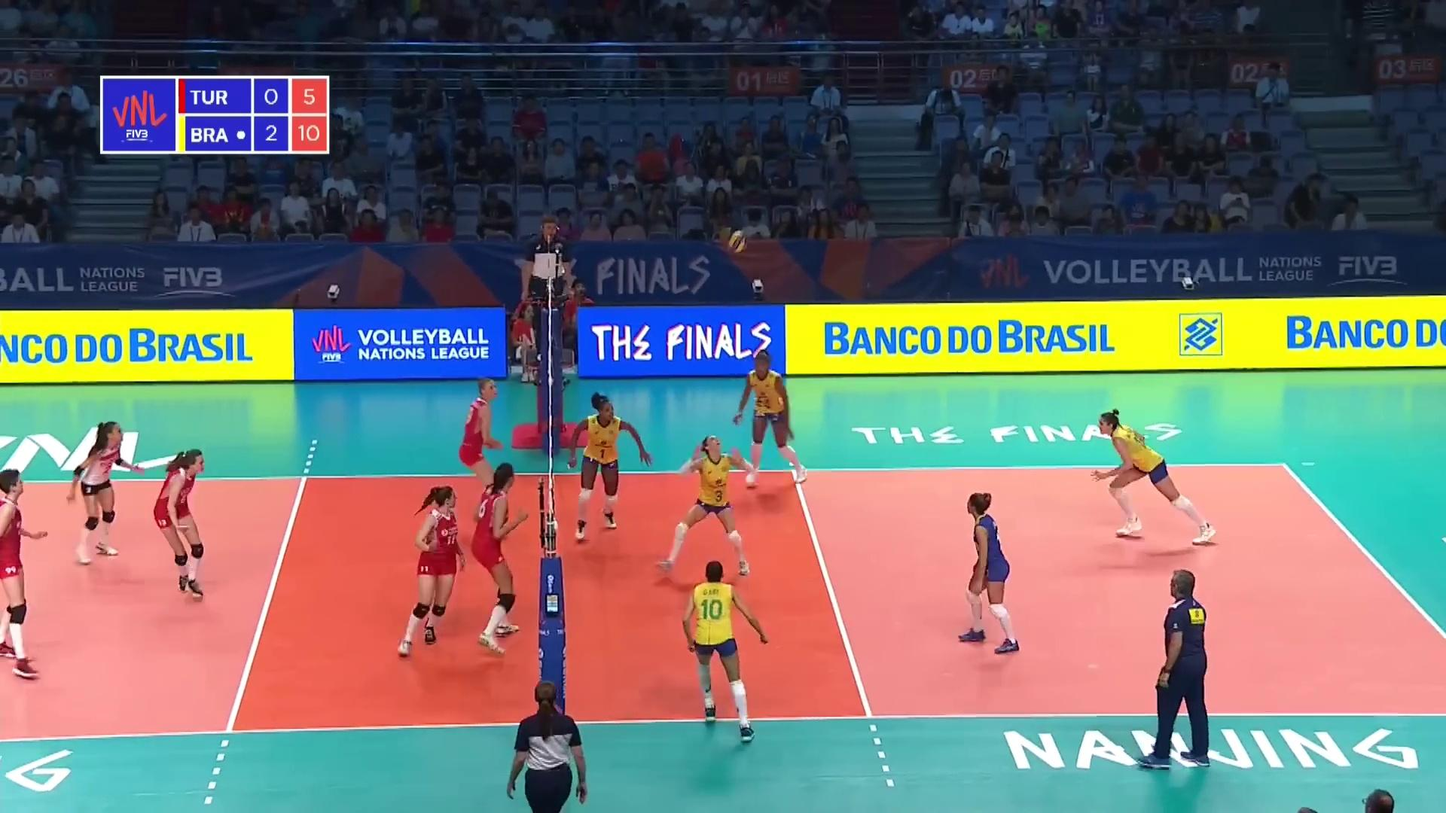player: (1088, 412, 1219, 546), (680, 563, 766, 739), (661, 434, 765, 573), (571, 396, 649, 541), (469, 459, 524, 654), (404, 485, 467, 655), (64, 420, 137, 565), (958, 495, 1021, 651), (0, 471, 45, 681), (154, 447, 214, 602), (735, 352, 800, 494), (459, 378, 516, 529)
refree: (508, 684, 584, 813), (524, 219, 573, 361)
